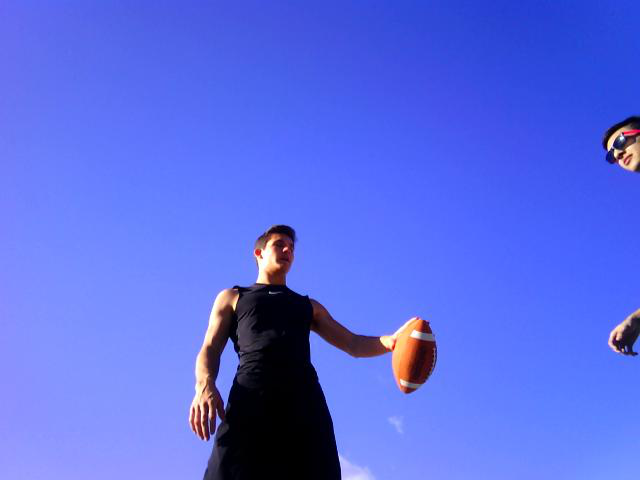football: (389, 318, 439, 394)
